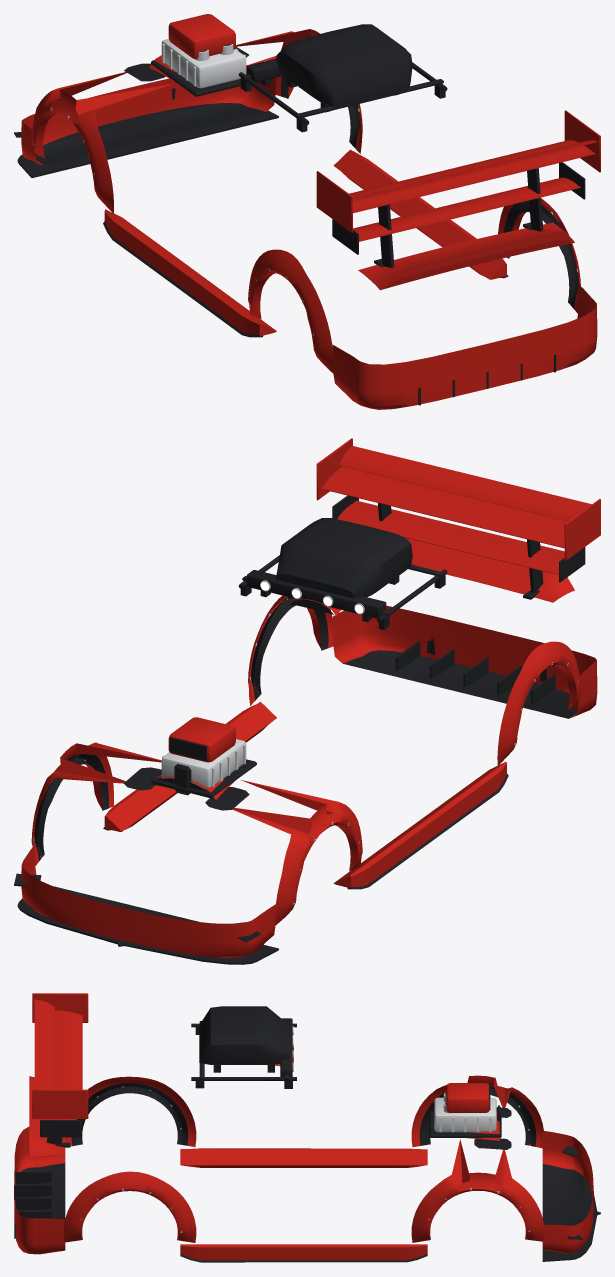
Rendered from sedan_kit.glb.
3 views of the same model, one above another, from view 1: azimuth 30°, elevation 25°; view 2: azimuth 150°, elevation 25°; view 3: azimuth 270°, elevation 25° (orthographic). The views are drawn at different scales.
Visible parts, largest first — view 1: rear_race, flares_widebody, spoiler_mega, roof_box, skirts_race, front_sport, bonnet_blower, front_race, spoiler_wing, spoiler_ducktail, flares_overfenders, roof_rack (+2 smaller); view 2: spoiler_mega, rear_sport, flares_widebody, roof_box, skirts_race, front_race, spoiler_wing, bonnet_blower, front_sport, spoiler_ducktail, rear_race, flares_overfenders (+3 smaller); view 3: flares_widebody, skirts_race, spoiler_mega, roof_box, front_sport, bonnet_blower, rear_race, flares_overfenders, front_race, rear_sport, spoiler_ducktail, spoiler_wing (+3 smaller).
Part boxes in pixels (<box>): rear_race: <box>332,284,597,409</box>; flares_widebody: <box>31,29,580,373</box>; spoiler_mega: <box>316,110,600,267</box>; roof_box: <box>275,24,412,112</box>; skirts_race: <box>103,149,508,337</box>; front_sport: <box>21,77,276,166</box>; bonnet_blower: <box>151,14,246,96</box>; front_race: <box>14,65,278,177</box>; spoiler_wing: <box>332,162,585,263</box>; spoiler_ducktail: <box>358,222,574,290</box>; flares_overfenders: <box>32,75,578,335</box>; roof_rack: <box>238,62,447,132</box>; spoiler_mega: <box>316,438,600,599</box>; rear_sport: <box>333,605,596,718</box>; flares_widebody: <box>31,595,580,925</box>; roof_box: <box>275,518,412,598</box>; skirts_race: <box>103,701,508,889</box>; front_race: <box>14,851,278,964</box>; spoiler_wing: <box>332,495,585,592</box>; bonnet_blower: <box>151,717,256,797</box>; front_sport: <box>21,845,268,941</box>; spoiler_ducktail: <box>405,537,574,602</box>; rear_race: <box>332,613,597,715</box>; flares_overfenders: <box>33,597,578,917</box>; flares_widebody: <box>63,1075,544,1242</box>; skirts_race: <box>180,1148,427,1262</box>; spoiler_mega: <box>32,993,88,1147</box>; roof_box: <box>199,1006,289,1072</box>; front_sport: <box>542,1130,593,1242</box>; bonnet_blower: <box>429,1083,501,1137</box>; rear_race: <box>14,1172,65,1254</box>; flares_overfenders: <box>71,1083,536,1240</box>; front_race: <box>542,1132,600,1261</box>; rear_sport: <box>14,1127,65,1219</box>; spoiler_ducktail: <box>29,1076,65,1158</box>; spoiler_wing: <box>40,1119,80,1143</box>.
Size of the model in its own units: 1.97 by 1.72 by 4.72.
